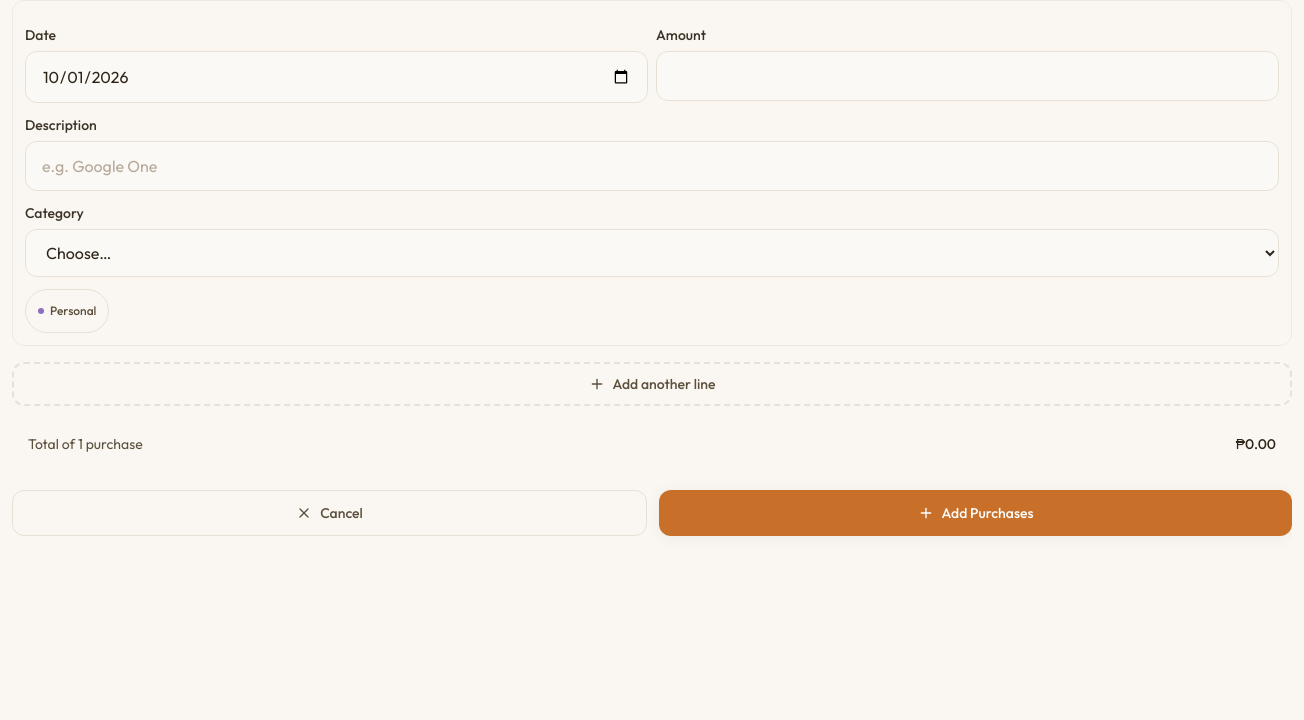
Test case: CardPurchasesForm › does not submit a line with no amount or category
Click the button "Add Purchases". click: (976, 513)
box: [659, 490, 1292, 536]
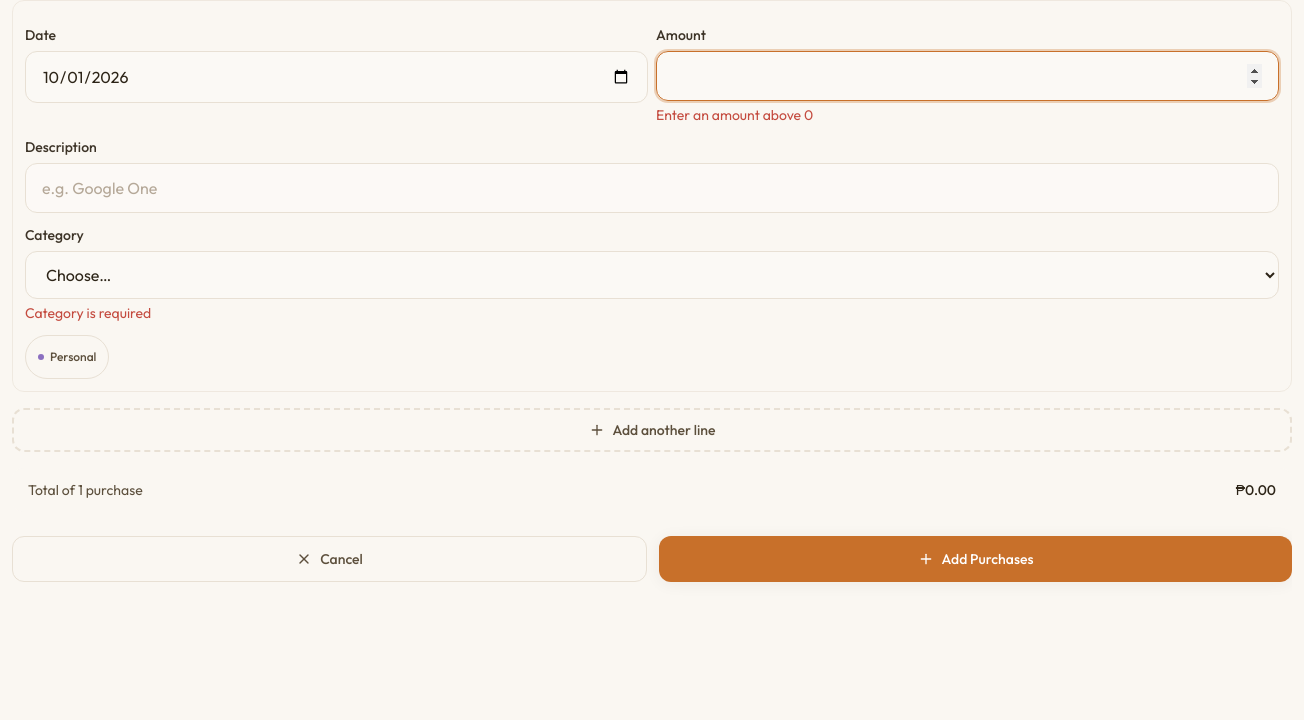
Now the text "Enter an amount above 0" is shown, box [656, 106, 813, 124]
